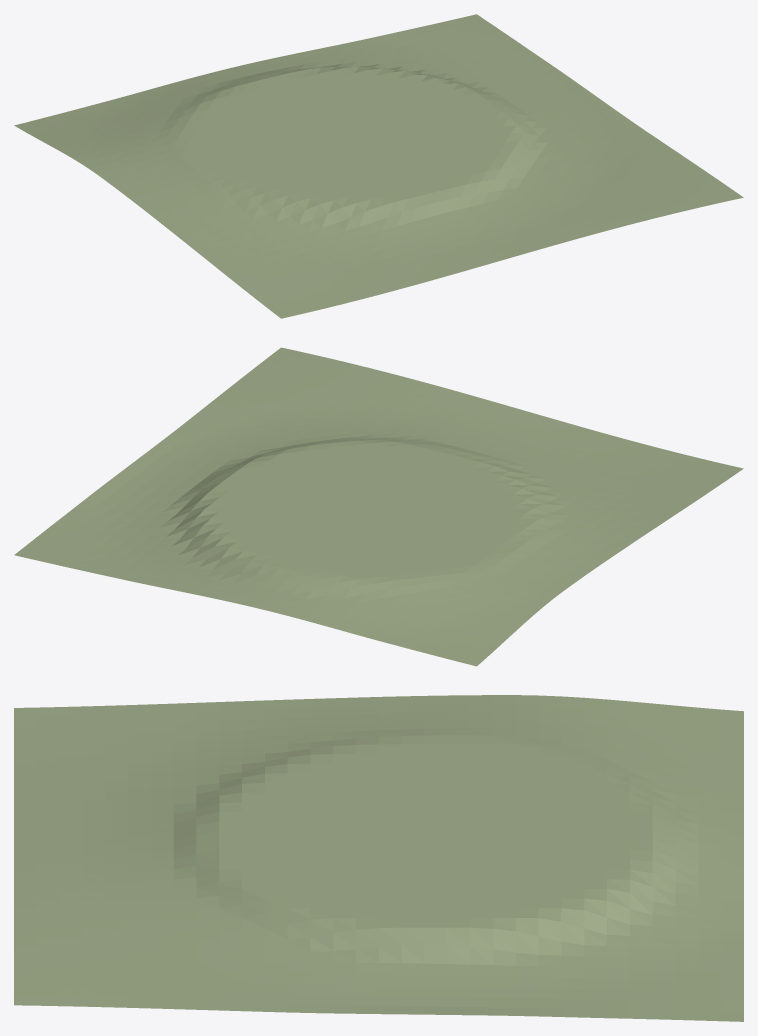
Rendered from coast-1-1.glb.
The picture shows the model from 3 angles, top to bottom: view 1: azimuth 30°, elevation 25°; view 2: azimuth 150°, elevation 25°; view 3: azimuth 270°, elevation 25°; orthographic projection. The views are drawn at different scales.
Parts seen in each view (by area): view 1: coast-1-1; view 2: coast-1-1; view 3: coast-1-1.
Part boxes in pixels (x1,y1,x2,y2): coast-1-1: (14,14,743,318); coast-1-1: (14,347,743,666); coast-1-1: (14,695,743,1021).
Size of the model in its own units: 256 by 10.43 by 256.
